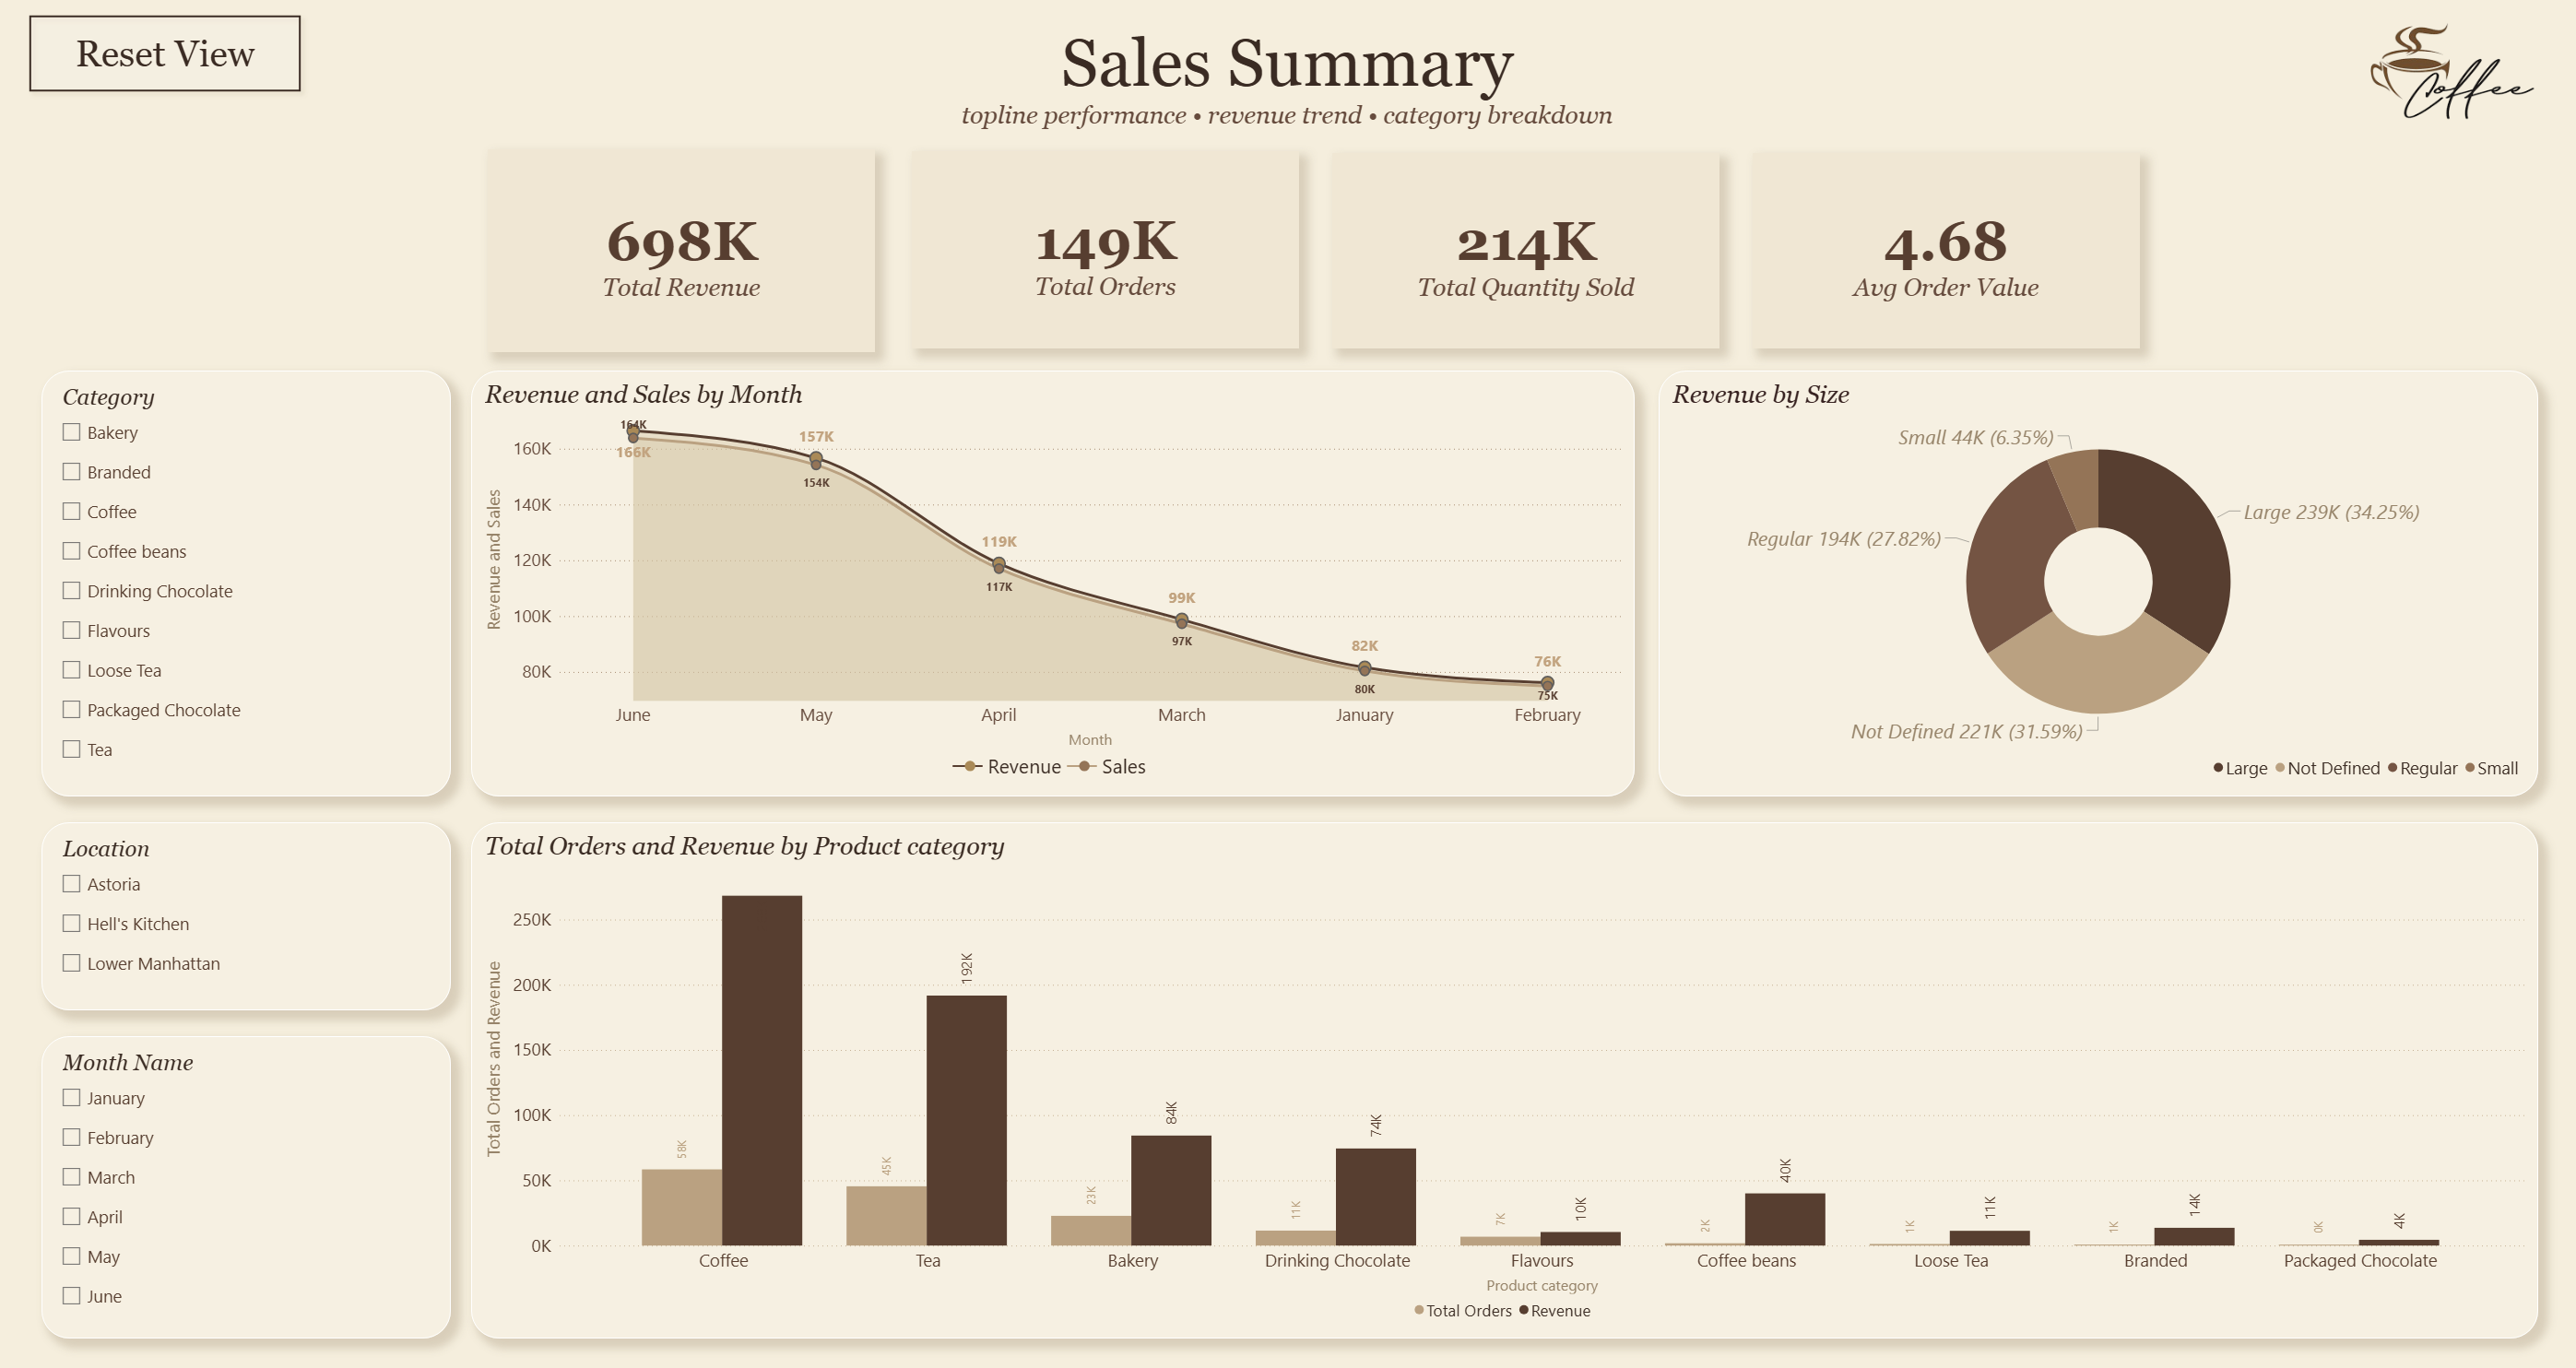

The page's visual inventory and layout, read from the dashboard file:
{"tool":"powerbi","page":{"name":"Sales Summary","canvas":[2800,1500],"ordinal":1},"visuals":[{"type":"textbox","box":[684,32,1430,142],"z":0},{"type":"lineChart","fields":{"Category":["Project.Month Name"],"Y":["Project.Total Revenue","Project.Total Sales"]},"box":[514,412,1262,462],"z":1000},{"type":"clusteredColumnChart","fields":{"Category":["Project.product_category"],"Y":["Project.Total Orders","Project.Total Revenue"]},"box":[514,902,2242,560],"z":2000},{"type":"donutChart","fields":{"Y":["Project.Total Revenue"],"Category":["Project.Size"]},"box":[1802,412,954,462],"z":3000},{"type":"slicer","fields":{"Values":["Project.Month Name"]},"box":[48,1134,444,328],"z":4000},{"type":"slicer","fields":{"Values":["Project.store_location"]},"box":[48,902,444,204],"z":5000},{"type":"slicer","fields":{"Values":["Project.product_category"]},"box":[48,412,444,462],"z":6000},{"type":"image","box":[2526,0,274,174],"z":7000},{"type":"card","fields":{"Values":["Project.Total Revenue"]},"box":[532,172,420,220],"z":8000},{"type":"card","fields":{"Values":["Project.Total Orders"]},"box":[992,174,420,214],"z":9000},{"type":"card","fields":{"Values":["Project.Total Quantity Sold"]},"box":[1448,176,420,212],"z":10000},{"type":"card","fields":{"Values":["Project.Avg Order Value"]},"box":[1904,176,420,212],"z":11000},{"type":"actionButton","box":[26,18,312,100],"z":12000}]}

Visuals, with their boxes in screenshot pixels (x1, y1, x2, y2), scaled from the page's 2800x1500 canvas onto the 2576x1368 screenshot:
textbox: pyautogui.locateOnScreen(630, 29, 1944, 159)
lineChart - Project.Month Name x Project.Total Revenue: pyautogui.locateOnScreen(473, 376, 1634, 797)
clusteredColumnChart - Project.product_category x Project.Total Orders: pyautogui.locateOnScreen(473, 822, 2535, 1333)
donutChart - Project.Total Revenue x Project.Size: pyautogui.locateOnScreen(1658, 376, 2535, 797)
slicer - Project.Month Name: pyautogui.locateOnScreen(44, 1034, 453, 1333)
slicer - Project.store_location: pyautogui.locateOnScreen(44, 822, 453, 1008)
slicer - Project.product_category: pyautogui.locateOnScreen(44, 376, 453, 797)
image: pyautogui.locateOnScreen(2324, 0, 2575, 159)
card - Project.Total Revenue: pyautogui.locateOnScreen(490, 157, 876, 358)
card - Project.Total Orders: pyautogui.locateOnScreen(913, 159, 1299, 354)
card - Project.Total Quantity Sold: pyautogui.locateOnScreen(1332, 160, 1719, 354)
card - Project.Avg Order Value: pyautogui.locateOnScreen(1752, 160, 2138, 354)
actionButton: pyautogui.locateOnScreen(24, 17, 311, 108)
